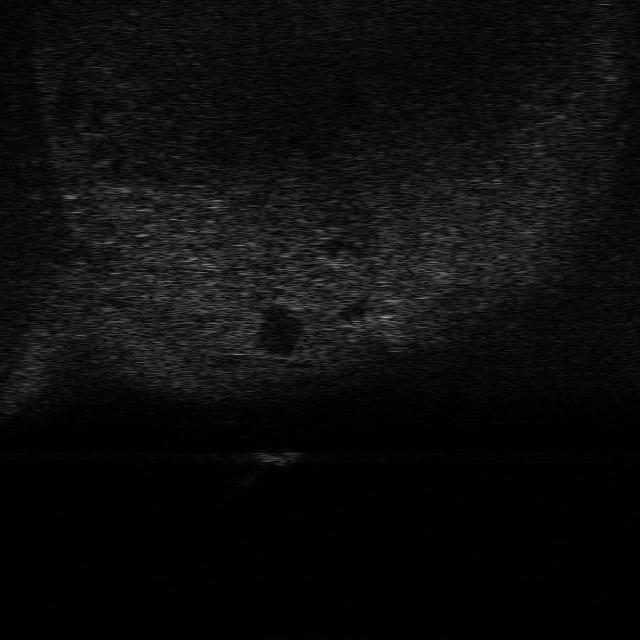cube: (252, 449, 308, 467)
